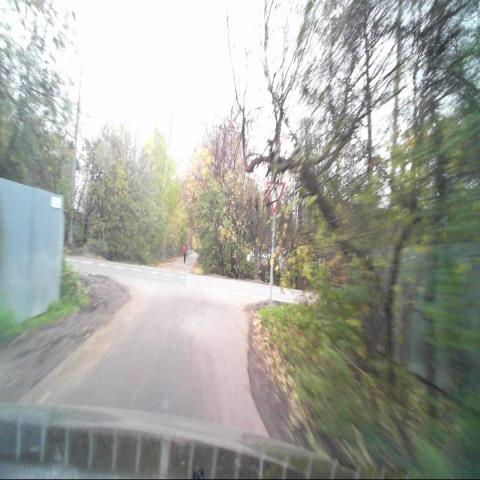2_4: (266, 181, 284, 212)
